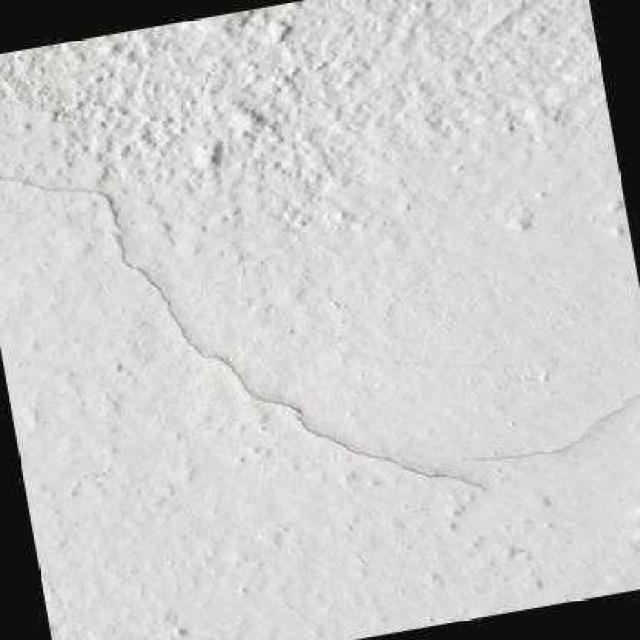D00: (0, 167, 640, 489)
